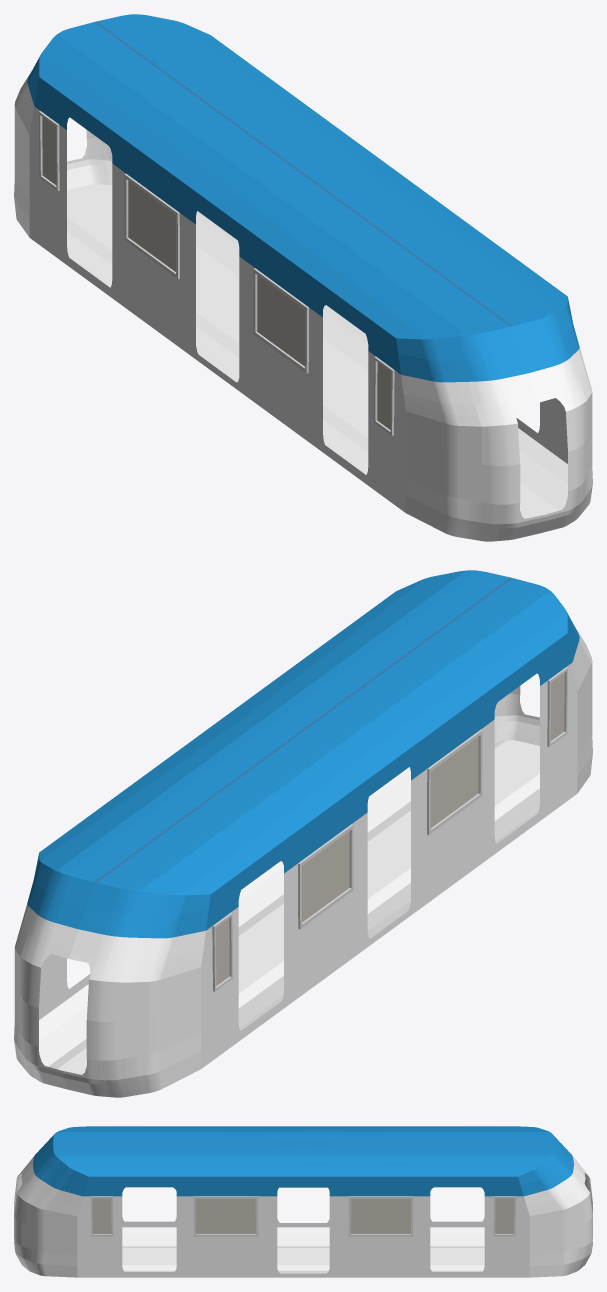
The model's file is SubText.fbx.
3 views of the same model, one above another, from view 1: azimuth 30°, elevation 25°; view 2: azimuth 150°, elevation 25°; view 3: azimuth 270°, elevation 25° (orthographic). The views are drawn at different scales.
Parts seen in each view (by area): view 1: metro; view 2: metro; view 3: metro.
Part boxes in pixels (bbox=[...]): metro: bbox=[14, 14, 592, 541]; metro: bbox=[14, 570, 592, 1097]; metro: bbox=[14, 1126, 592, 1277].
Bounding box in the file's own units: 1095 × 1135 × 5201.
Materials: 3 (1 with a texture image).
